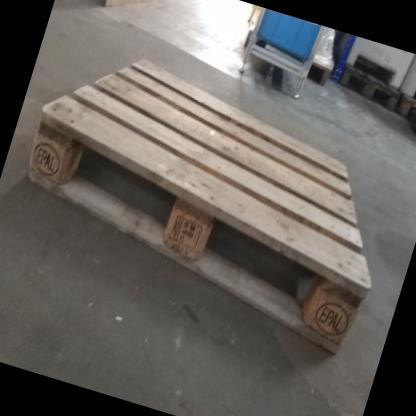BoxFace: (21, 52, 374, 363)
